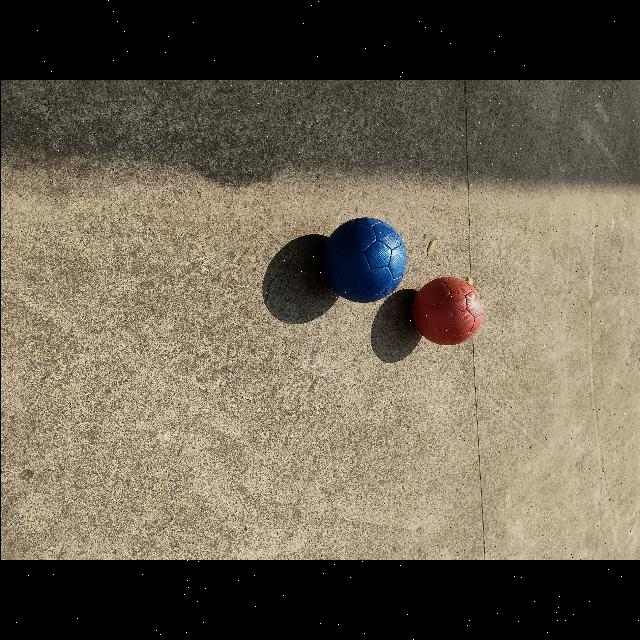B: (318, 217, 406, 304)
R: (408, 276, 482, 347)
